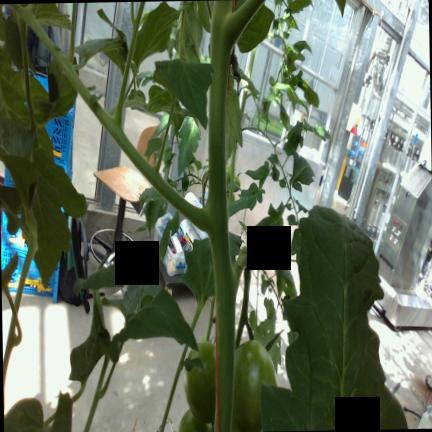6kp_peduncle: (211, 240, 251, 335)
6kp_petiole: (154, 140, 235, 294)
MainStem: (209, 0, 236, 432)
tomato: (233, 340, 277, 430), (183, 341, 215, 422), (178, 409, 212, 432), (233, 174, 240, 190), (225, 164, 230, 182)
